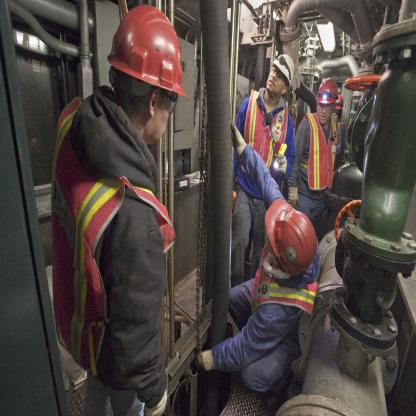Helmet: (105, 10, 187, 131), (264, 197, 320, 274), (273, 50, 295, 86), (314, 78, 338, 105), (329, 85, 344, 113)
